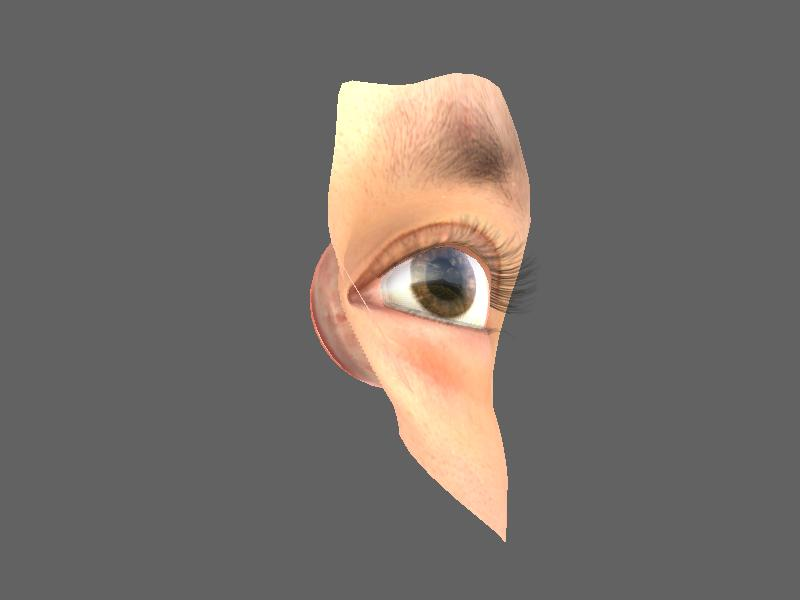iris: (399, 249, 483, 321)
